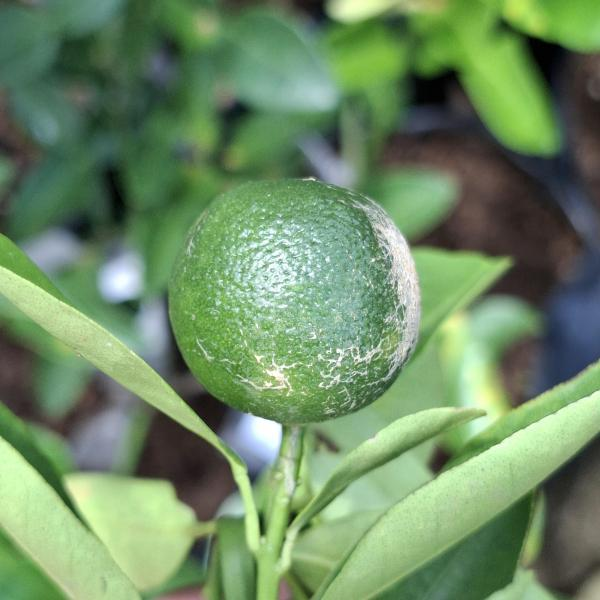Scab: (158, 159, 434, 424)
